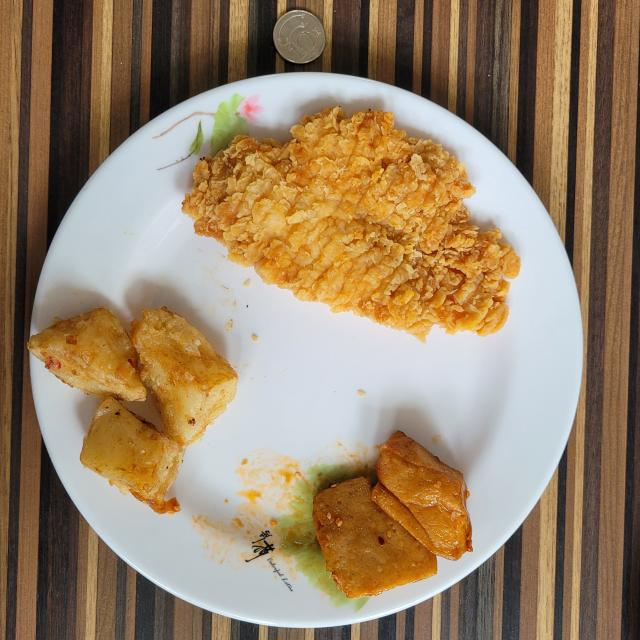coin: (272, 10, 325, 64)
creamy tofu: (312, 431, 472, 599)
fried chicken cutlet: (182, 106, 520, 340)
fried potato: (28, 308, 238, 514)
